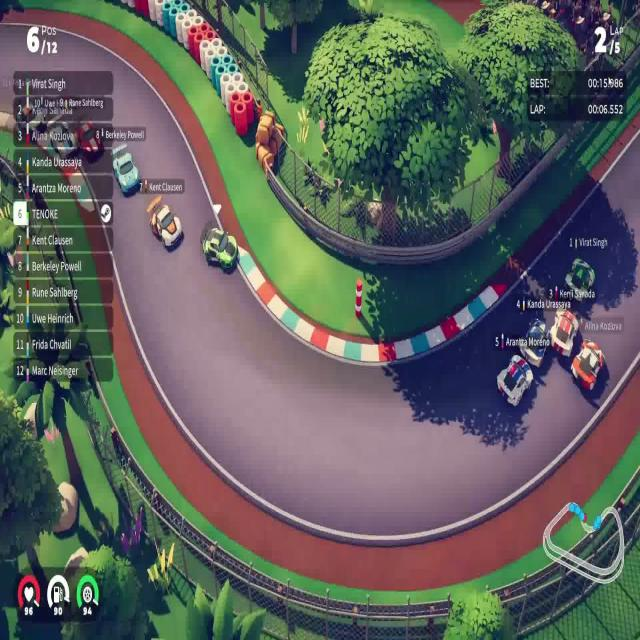car: (496, 352, 533, 408), (570, 338, 605, 393), (202, 226, 240, 273), (548, 306, 579, 358), (518, 316, 549, 368), (149, 201, 182, 249), (111, 143, 140, 196), (564, 256, 595, 300)
